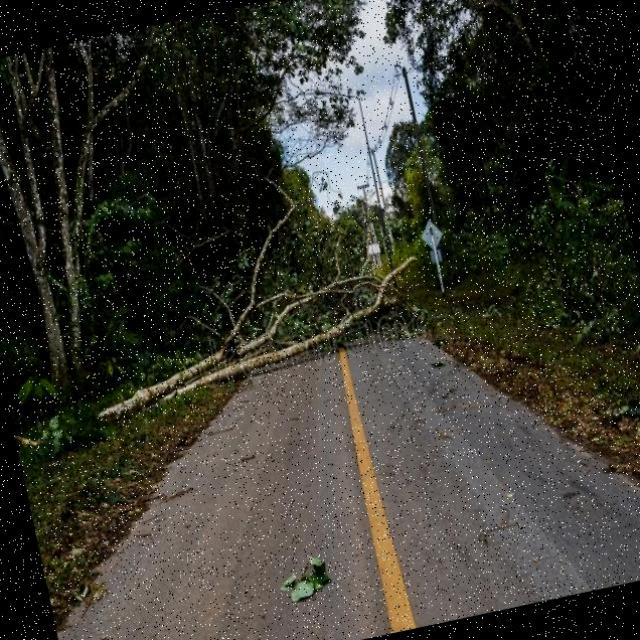fallen_object: (9, 189, 452, 447)
